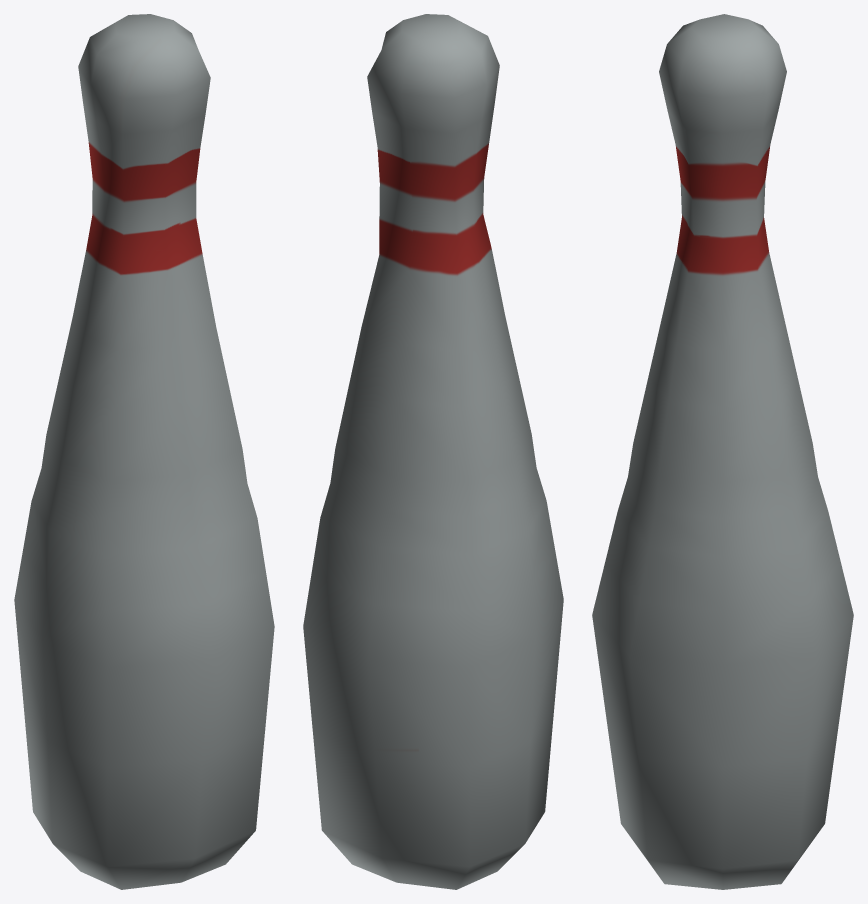
File: keila.fbx
3 views of the same model, side by side, from view 1: azimuth 30°, elevation 25°; view 2: azimuth 150°, elevation 25°; view 3: azimuth 270°, elevation 25° (orthographic).
Parts seen in each view (by area): view 1: jonglor; view 2: jonglor; view 3: jonglor.
Boxes of the visible parts, x1=… form: jonglor: x1=14, y1=14, x2=274, y2=889; jonglor: x1=303, y1=14, x2=563, y2=889; jonglor: x1=592, y1=14, x2=853, y2=889.
Bounding box in the file's own units: 12.97 × 50.42 × 14.39.
Materials: 1 (1 with a texture image).
